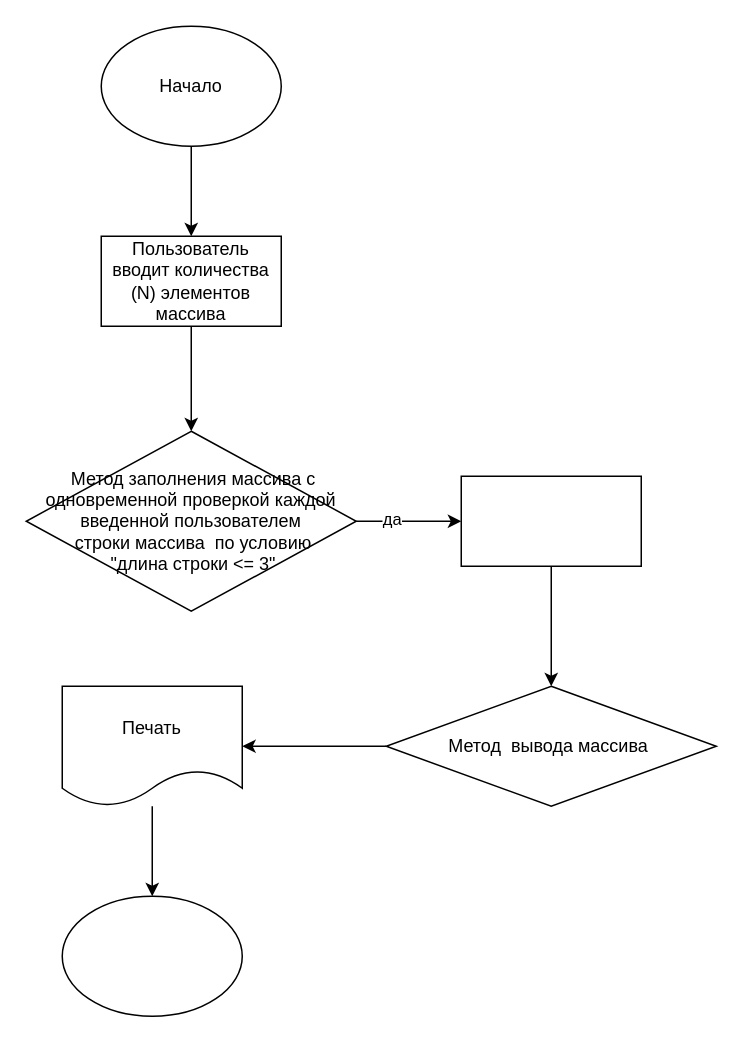
Some shapes in this 743 by 1043 pixel diagram are drawn without their labels. The shapes that lost their labels are listed below. From the top down, each one's box as (x1, y1, x2, y2) in pixels, then its label:
(460, 475, 641, 566): Записываем элементы в массив
(61, 895, 242, 1016): Конец
